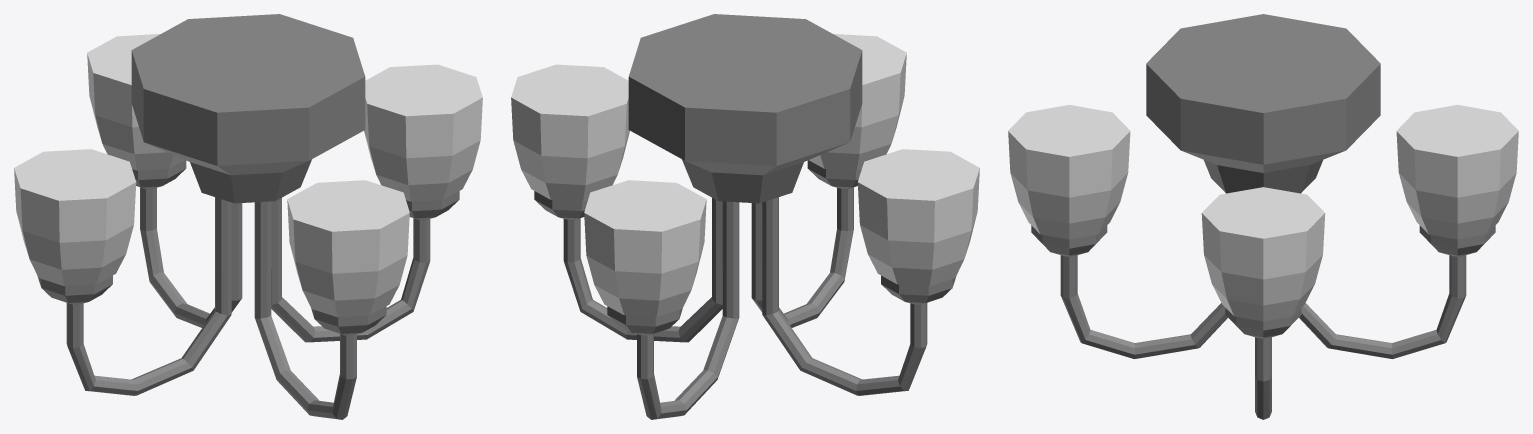
Rendered from home_light_chandelier.fbx.
The picture shows the model from 3 angles, left to right: view 1: azimuth 30°, elevation 25°; view 2: azimuth 150°, elevation 25°; view 3: azimuth 270°, elevation 25°; orthographic projection. The views are drawn at different scales.
Visible parts, largest first — view 1: home_light_chandelier_LOD0; view 2: home_light_chandelier_LOD0; view 3: home_light_chandelier_LOD0.
Boxes of the visible parts, x1,y1,x2,y2 form: home_light_chandelier_LOD0: (14,14,482,419); home_light_chandelier_LOD0: (511,14,979,419); home_light_chandelier_LOD0: (1008,14,1518,419).
Size of what is drawn, in the model's own units: 0.9 by 0.5743 by 0.9.
